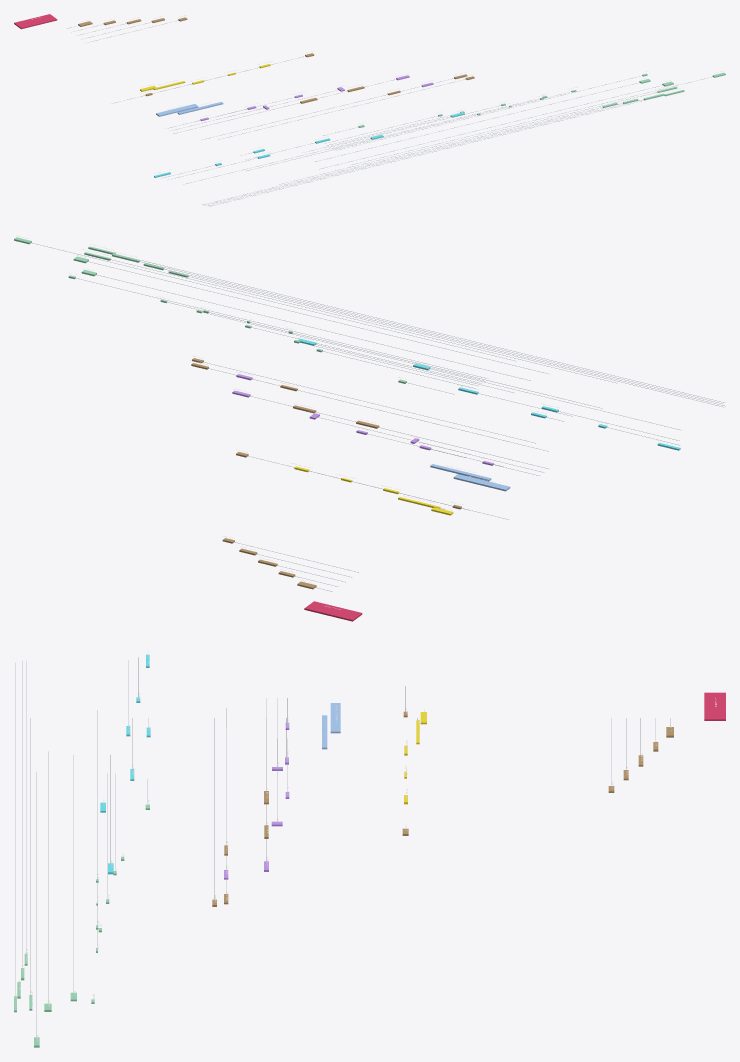
The model's file is screen_structures_exploded.glb.
3 views of the same model, one above another, from view 1: azimuth 30°, elevation 25°; view 2: azimuth 150°, elevation 25°; view 3: azimuth 270°, elevation 25° (orthographic). The views are drawn at different scales.
Parts seen in each view (by area): view 1: start_00-convcol; view 2: no part large enough to name; view 3: start_00-convcol.
Part boxes in pixels (bbox=[...]): start_00-convcol: bbox=[14, 14, 57, 29]; start_00-convcol: bbox=[704, 692, 725, 720].
Size of the model in its own units: 9.63 by 0.06 by 7.4.
